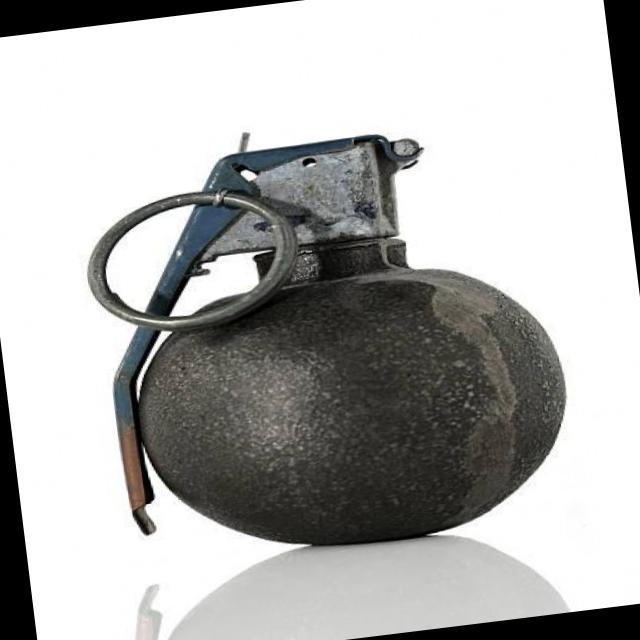grenade: (54, 109, 576, 579)
